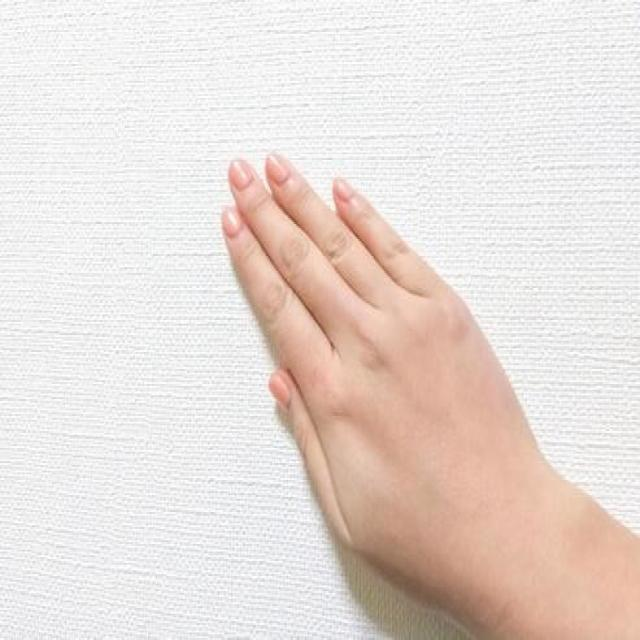Nail: (266, 372, 290, 409), (231, 159, 254, 193), (266, 152, 291, 183), (221, 207, 242, 238), (334, 179, 353, 202)
